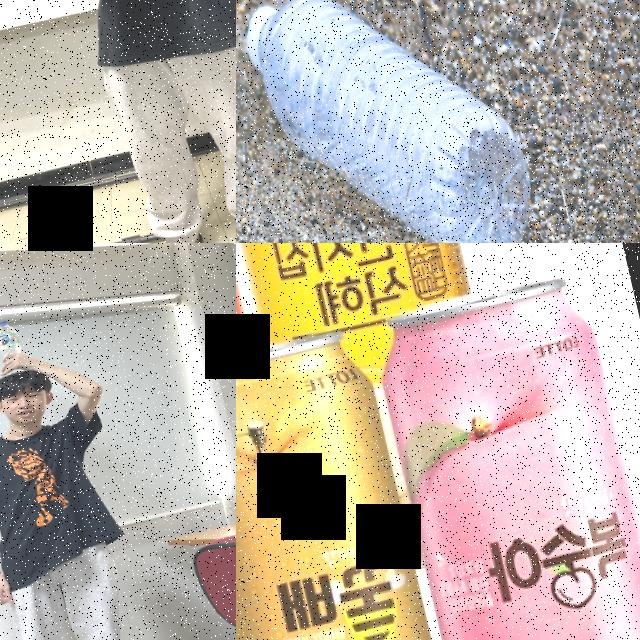bottle: (237, 0, 549, 243), (0, 317, 25, 377)
can: (365, 272, 640, 640), (236, 328, 456, 640), (236, 243, 312, 640), (236, 243, 477, 356)
